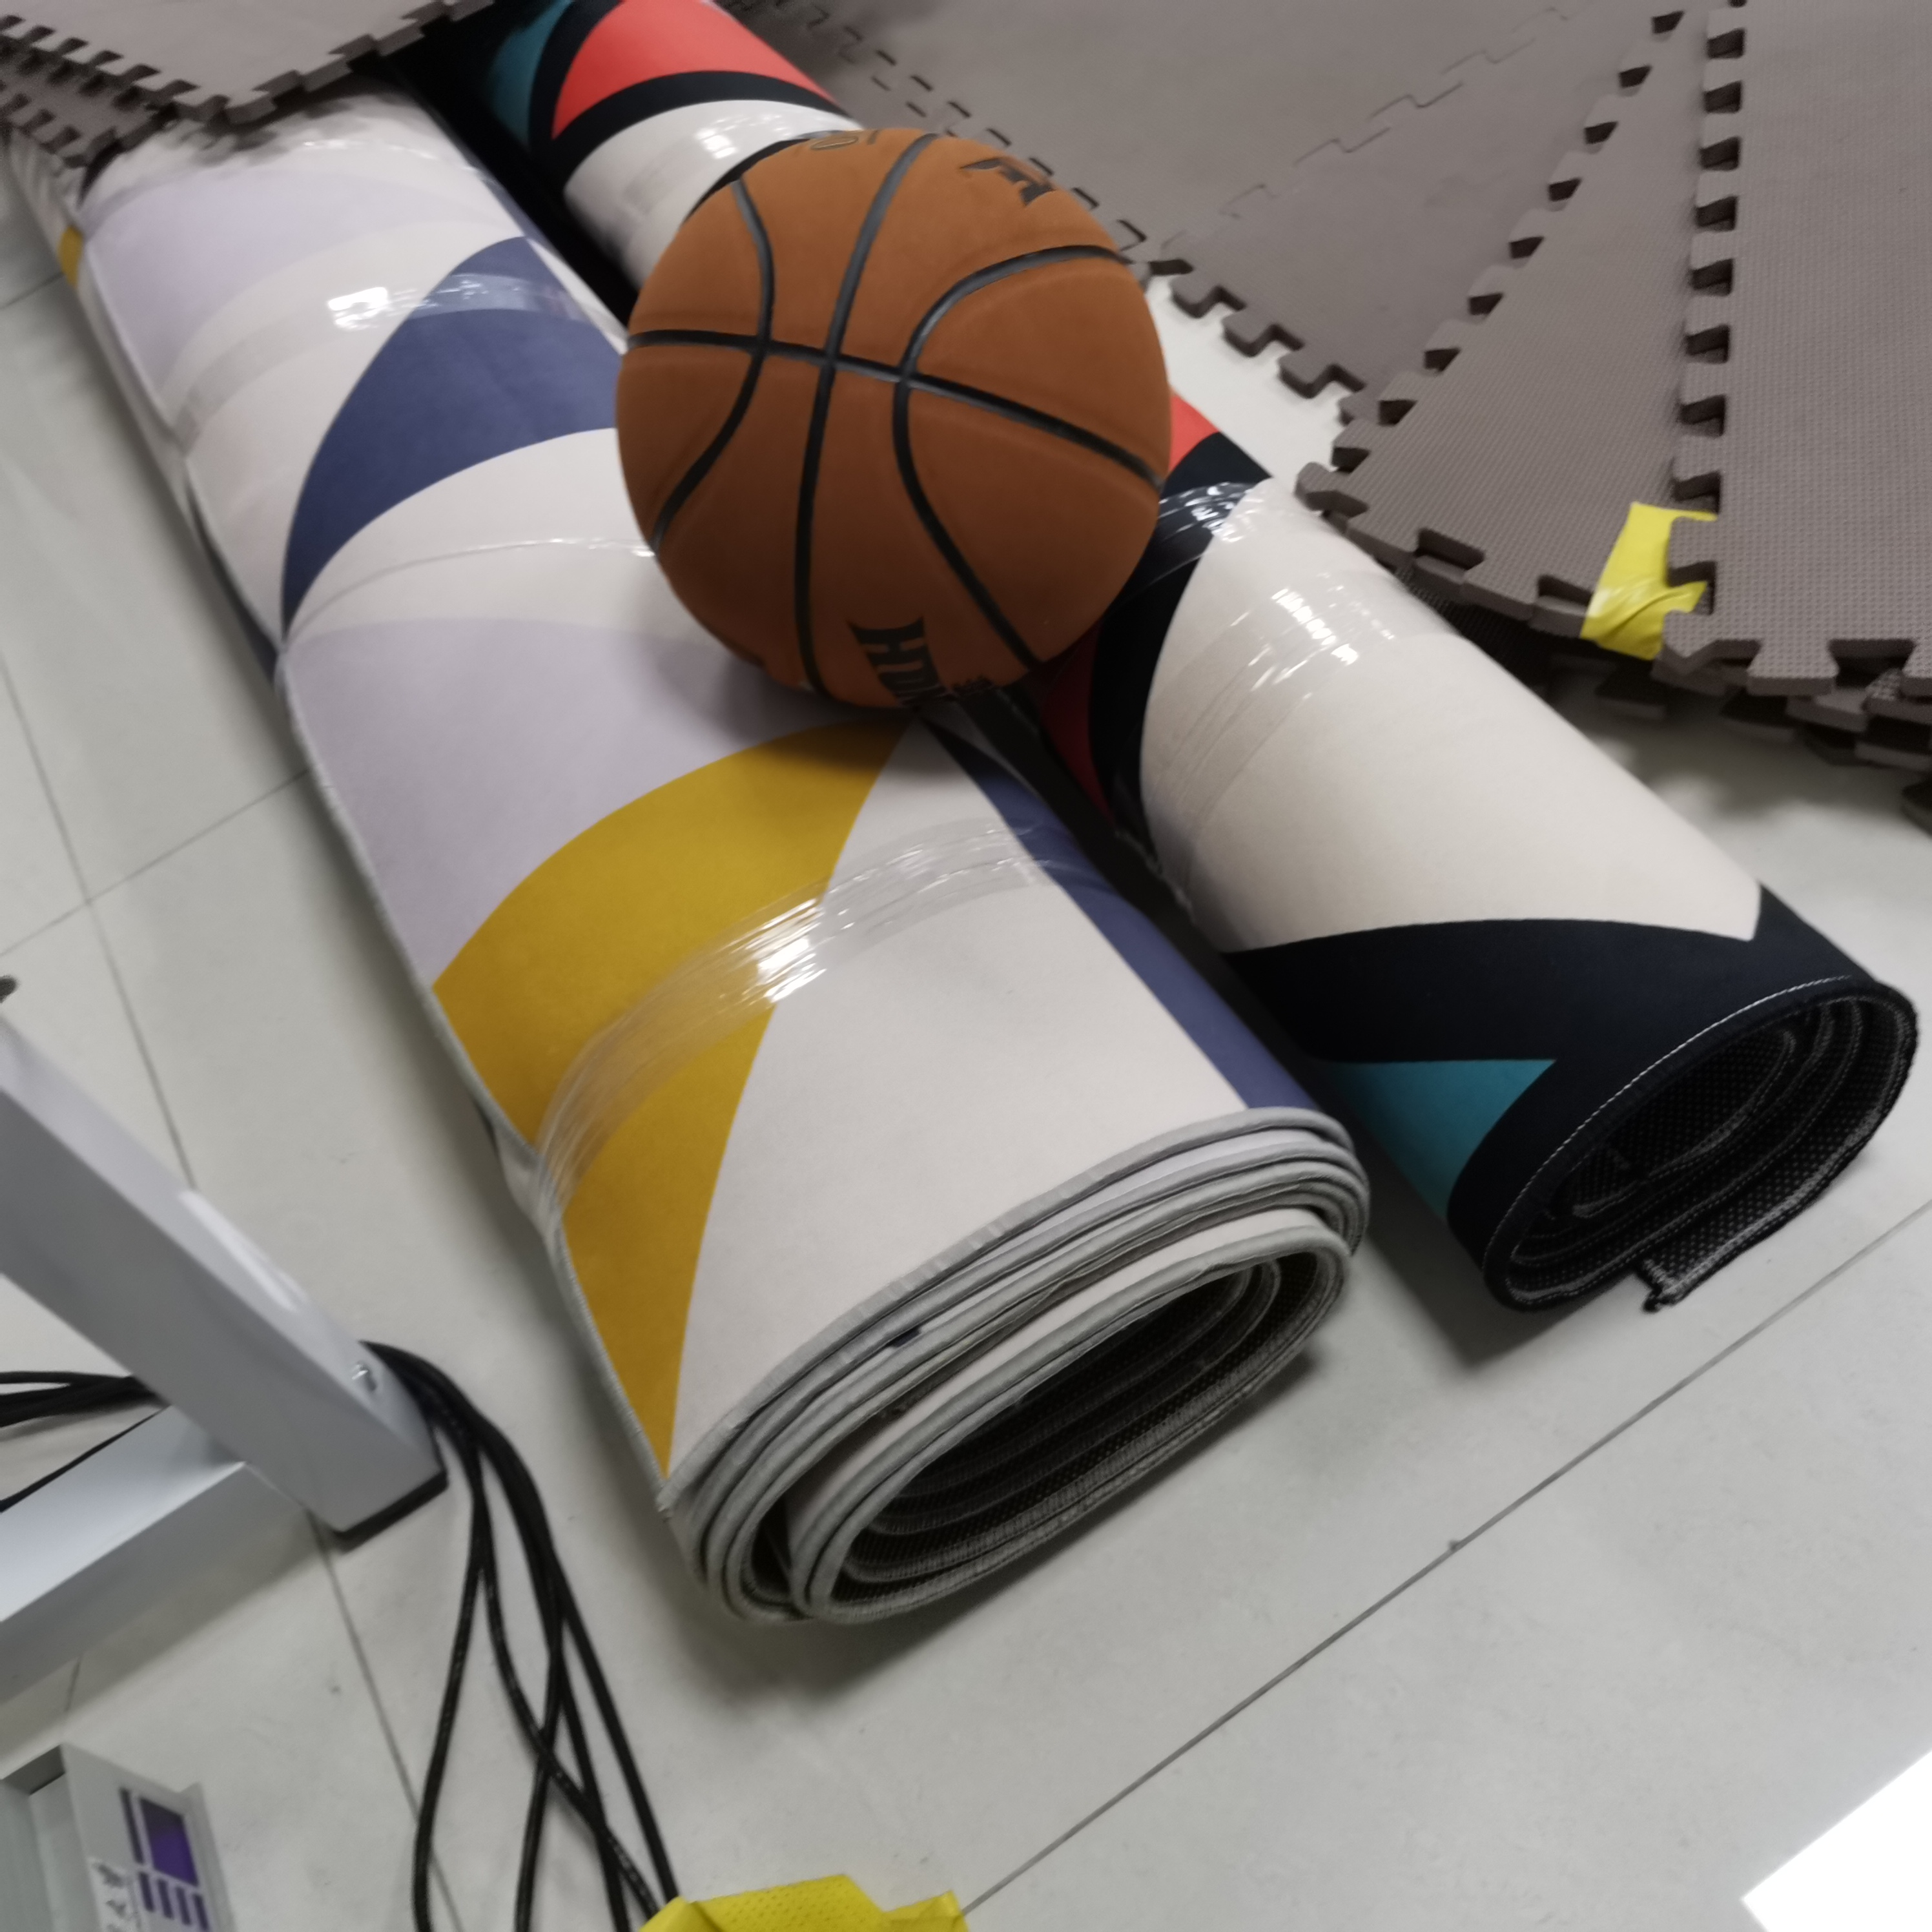basketball: (614, 124, 1171, 711)
